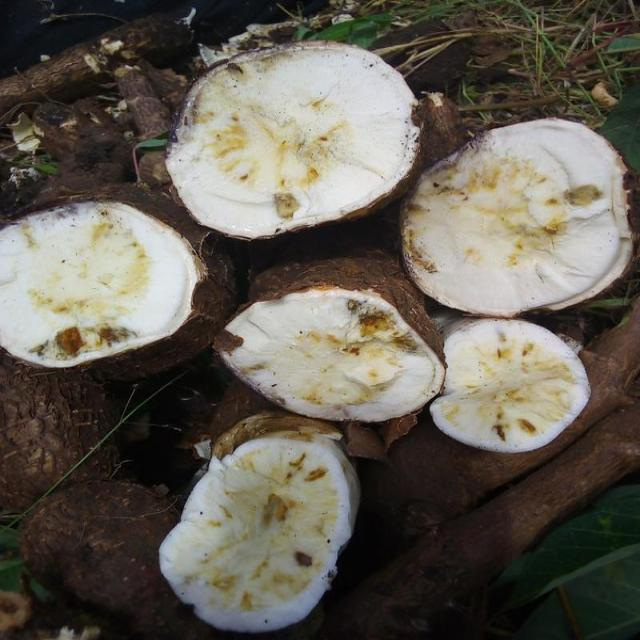cassava leaf: (164, 37, 422, 240), (398, 115, 636, 317), (158, 426, 360, 632), (212, 248, 446, 422), (486, 480, 638, 638), (429, 316, 591, 453)
